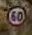limite 60: (6, 5, 26, 26)
